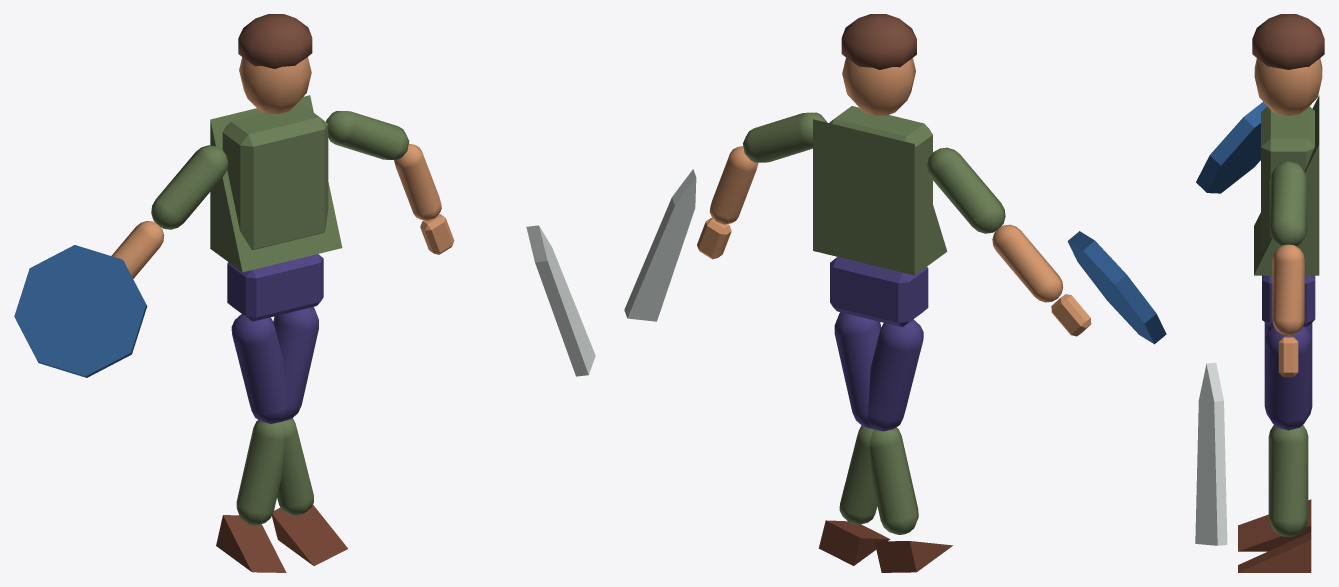
The model's file is adventurer.rustic.glb.
3 views of the same model, side by side, from view 1: azimuth 30°, elevation 25°; view 2: azimuth 150°, elevation 25°; view 3: azimuth 270°, elevation 25° (orthographic).
Visible parts, largest first — view 1: accessory.off-hand, torso, tunic, pelvis, thigh.left, shin.right, accessory.main-hand, upper-arm.left, hair, thigh.right, head, upper-arm.right (+6 smaller); view 2: tunic, pelvis, thigh.left, accessory.main-hand, shin.right, accessory.off-hand, upper-arm.left, hair, thigh.right, head, forearm.left, upper-arm.right (+7 smaller); view 3: accessory.main-hand, shin.left, thigh.right, torso, hair, accessory.off-hand, upper-arm.right, tunic, head, forearm.right, foot.left, foot.right (+2 smaller).
Part boxes in pixels (x1,y1,x2,y2): accessory.off-hand: (14,245,147,377); torso: (222,104,328,249); tunic: (210,95,342,272); pelvis: (227,254,323,321); thigh.left: (231,314,285,423); shin.right: (236,420,284,525); accessory.main-hand: (526,225,595,376); upper-arm.left: (151,145,228,229); hair: (238,14,312,68); thigh.right: (273,307,318,421); head: (239,57,311,113); upper-arm.right: (326,111,409,159); tunic: (813,119,947,275); pelvis: (830,257,928,327); thigh.left: (868,319,923,431); accessory.main-hand: (624,169,696,321); shin.right: (870,427,918,534); accessory.off-hand: (1067,231,1166,344); upper-arm.left: (927,147,1005,233); hair: (841,14,916,69); thigh.right: (834,312,881,428); head: (842,58,915,115); forearm.left: (992,224,1063,302); upper-arm.right: (743,112,827,162); accessory.main-hand: (1195,362,1227,545); shin.left: (1268,426,1308,536); thigh.right: (1264,327,1312,430); torso: (1261,106,1314,251); hair: (1252,14,1324,69); accessory.off-hand: (1196,102,1267,193); upper-arm.right: (1269,161,1307,246); tunic: (1254,95,1319,275); head: (1254,58,1322,115); forearm.right: (1272,244,1304,335); foot.left: (1238,532,1311,572); foot.right: (1238,499,1311,551).
Size of the model in its own units: 3.26 by 3.01 by 0.654.
